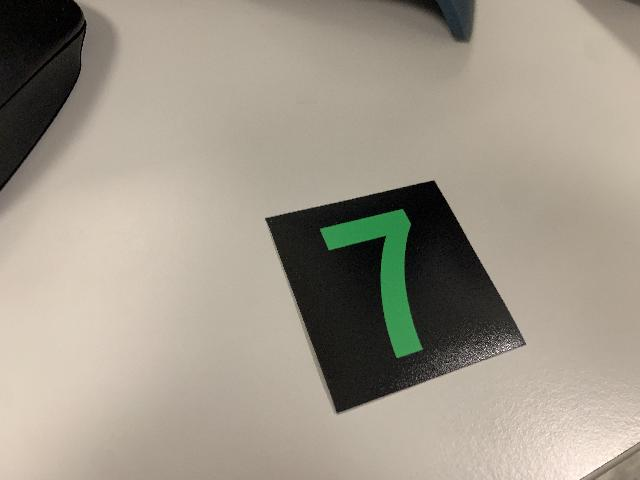seven: (260, 178, 529, 417)
